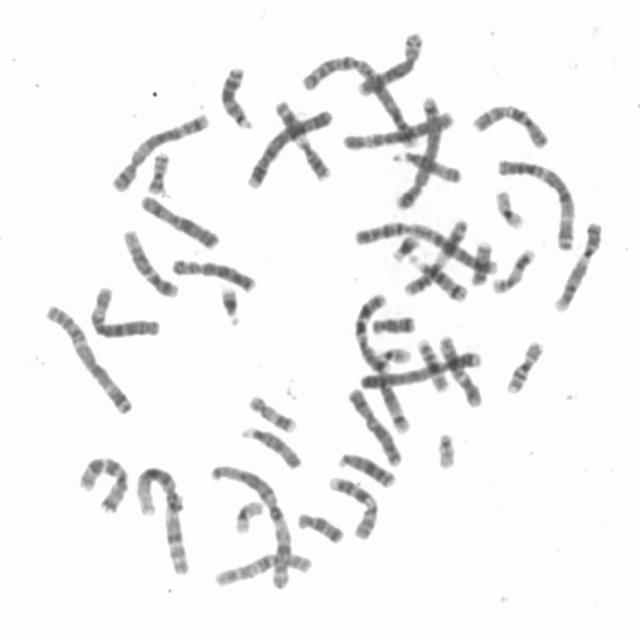A1: (208, 464, 293, 590), (134, 466, 192, 576)
A2: (301, 54, 419, 148), (352, 219, 500, 279)
A3: (43, 302, 134, 417), (497, 158, 578, 252)
B4: (244, 109, 336, 191), (357, 350, 482, 391)
B5: (110, 112, 209, 194), (393, 95, 443, 212)
C10: (212, 550, 314, 588), (471, 102, 549, 151)
C11: (401, 215, 469, 299), (271, 100, 333, 182)
C12: (120, 228, 182, 299), (439, 334, 484, 410)
C6: (342, 110, 455, 152), (87, 286, 168, 342)
C7: (77, 454, 130, 516), (353, 292, 391, 376)
C8: (356, 29, 424, 99), (171, 258, 257, 294)
C9: (553, 222, 603, 314), (324, 476, 381, 542)
D13: (335, 452, 397, 490), (220, 65, 255, 131)
D14: (403, 253, 470, 303), (373, 370, 412, 434)
D15: (240, 425, 304, 472), (392, 148, 464, 184)
E16: (505, 340, 543, 396), (415, 339, 448, 394)
E17: (492, 246, 538, 296), (246, 394, 298, 434)
E18: (296, 510, 346, 546), (369, 316, 418, 335)
F19: (492, 186, 528, 233), (232, 500, 263, 536)
F20: (144, 150, 174, 197), (469, 240, 494, 288)
G21: (218, 286, 246, 332), (389, 234, 421, 263)
G22: (434, 432, 458, 470), (377, 345, 412, 364)
X: (138, 194, 221, 250), (346, 389, 404, 467)
